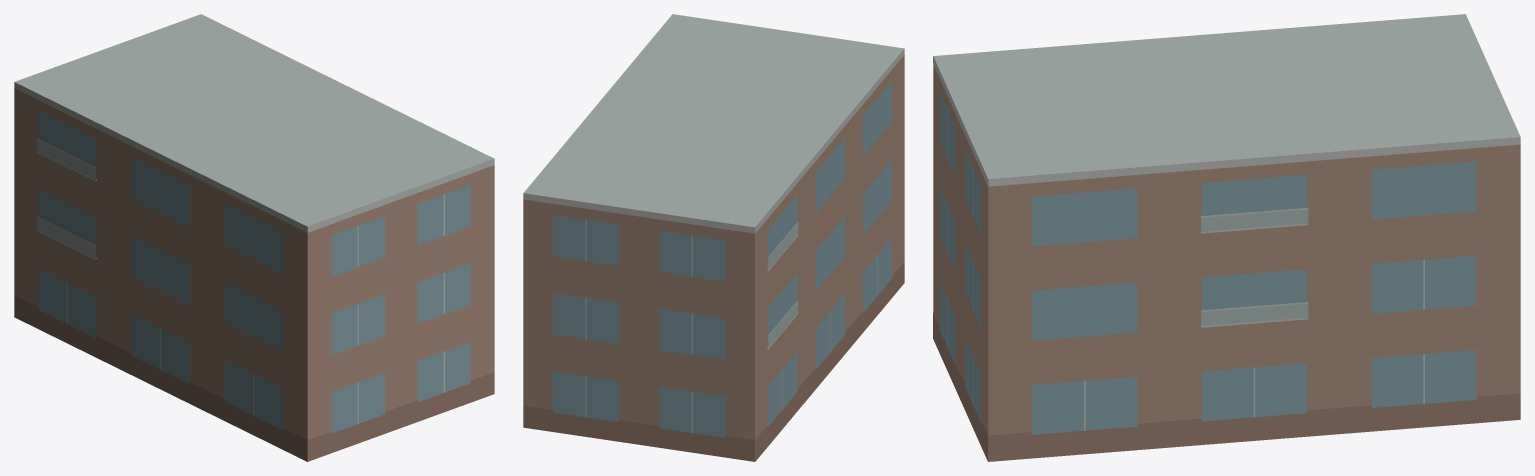
The model's file is survey-upis-32708117.glb.
The picture shows the model from 3 angles, left to right: view 1: azimuth 30°, elevation 25°; view 2: azimuth 150°, elevation 25°; view 3: azimuth 270°, elevation 25°; orthographic projection. The views are drawn at different scales.
Parts seen in each view (by area): view 1: survey-upis-32708117.tmp; view 2: survey-upis-32708117.tmp; view 3: survey-upis-32708117.tmp.
Part boxes in pixels (x1,y1,x2,y2): survey-upis-32708117.tmp: [14, 14, 494, 461]; survey-upis-32708117.tmp: [523, 14, 904, 461]; survey-upis-32708117.tmp: [933, 14, 1520, 461].
Size of the model in its own units: 11.47 by 9.15 by 17.24.
